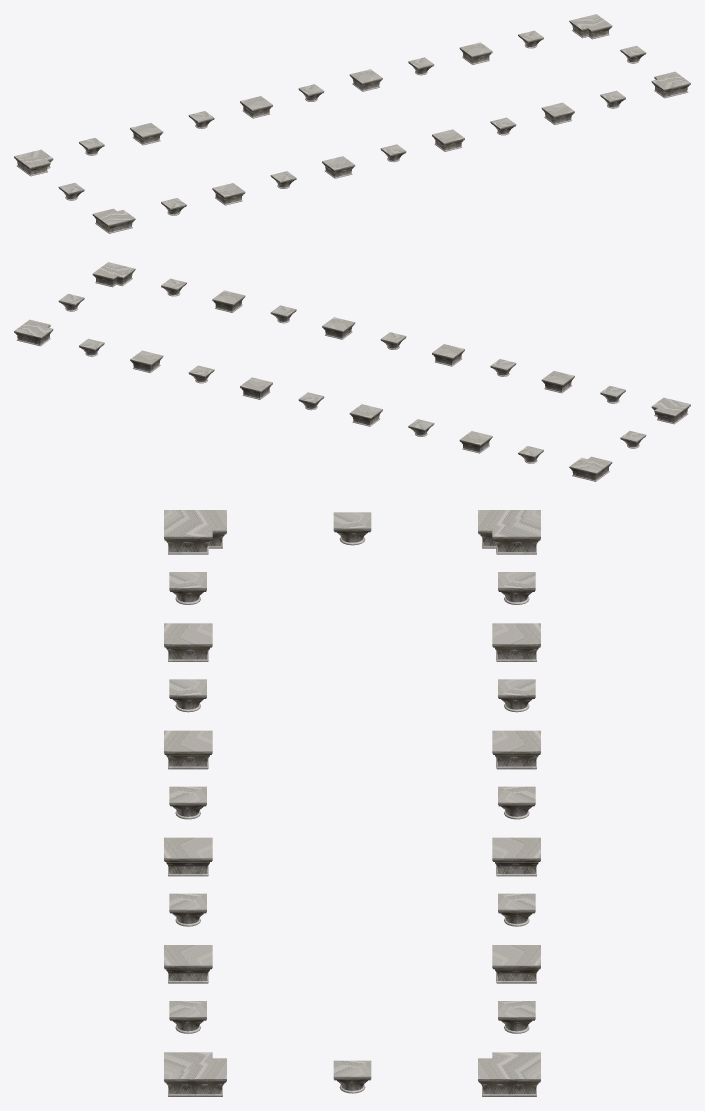
Rendered from sponza_St_kp.FBX.
The picture shows the model from 3 angles, top to bottom: view 1: azimuth 30°, elevation 25°; view 2: azimuth 150°, elevation 25°; view 3: azimuth 270°, elevation 25°; orthographic projection. The views are drawn at different scales.
Parts seen in each view (by area): view 1: st_kp; view 2: st_kp; view 3: st_kp.
Part boxes in pixels (bbox=[...]): st_kp: bbox=[14, 14, 690, 233]; st_kp: bbox=[14, 262, 690, 481]; st_kp: bbox=[164, 510, 540, 1096].
Bounding box in the file's own units: 23.34 × 0.38 × 6.54.
